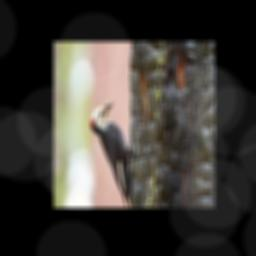Woodpecker: (91, 98, 140, 208)
